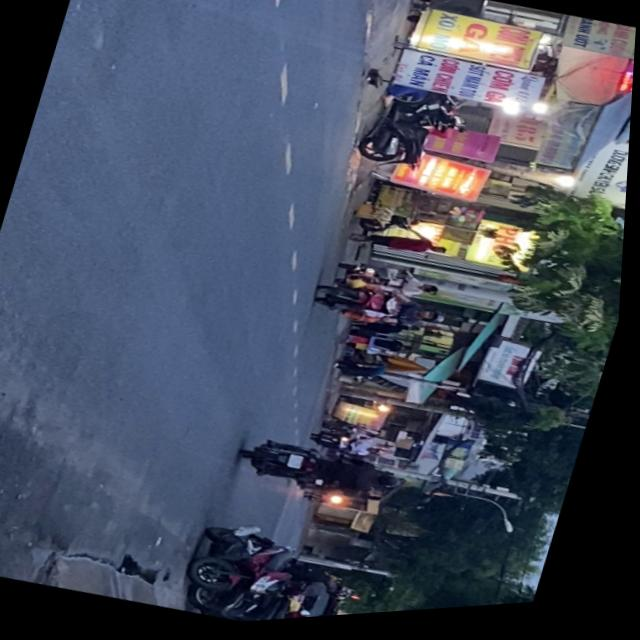helmet: (423, 313, 450, 331)
licenseplate: (310, 273, 456, 348)
